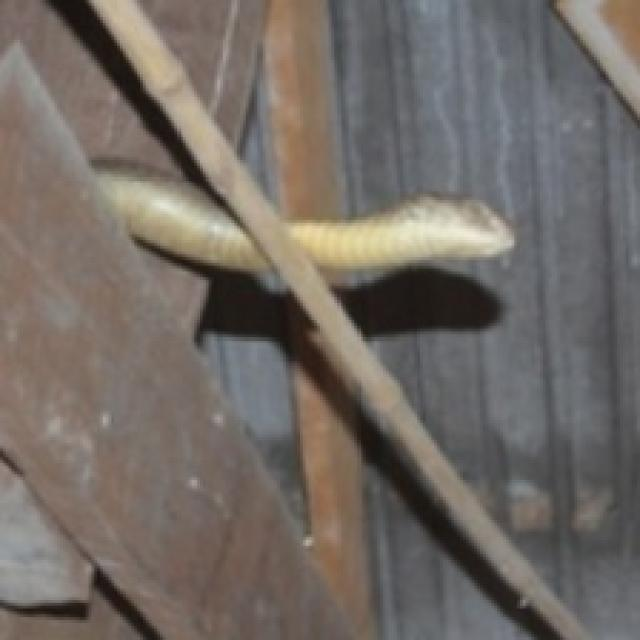king cobra: (97, 166, 269, 271), (286, 194, 511, 269)
